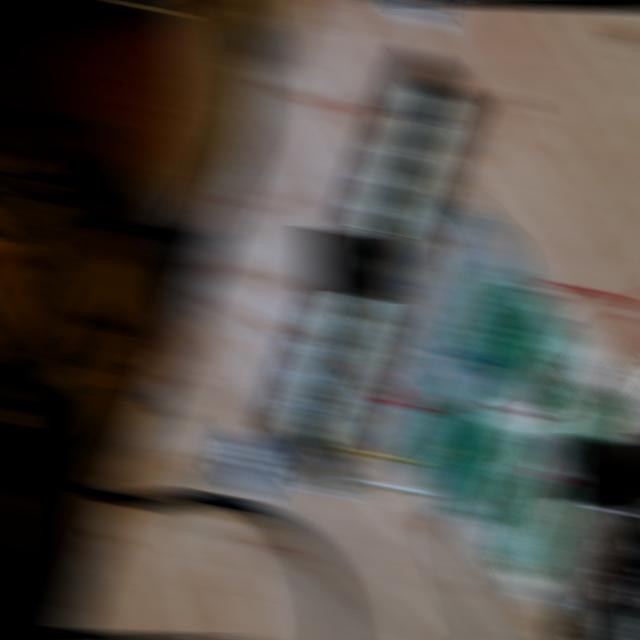Phillips_Block: (255, 44, 490, 486)
Terminal_1: (505, 482, 577, 581), (545, 380, 613, 476)
Terminal_2: (459, 431, 530, 525), (480, 287, 550, 381), (414, 380, 483, 472), (436, 407, 505, 499), (503, 315, 572, 406)
